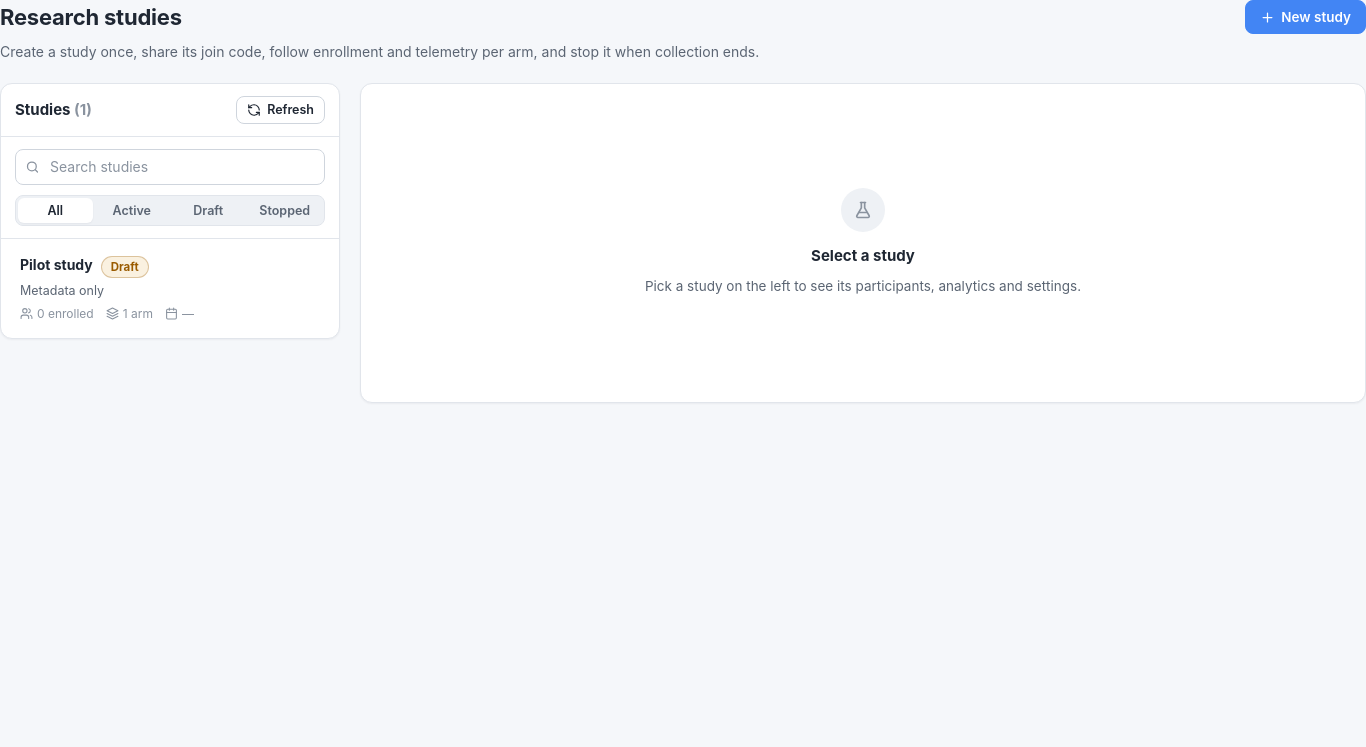
Test: a superseded analytics range never replaces the newer one
The width and height of the screenshot is (1366, 747).
Step 1. Click the text "Pilot study" → (56, 265), box [20,256,93,275]
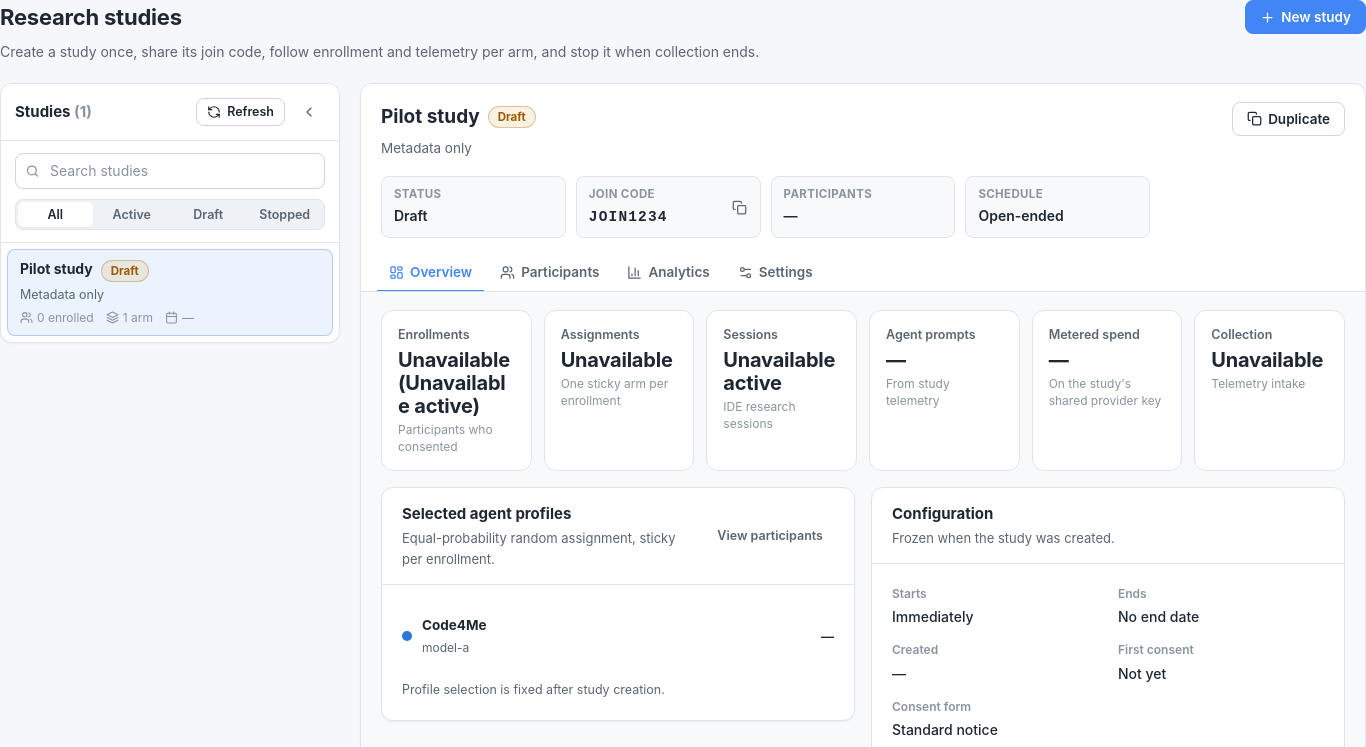
Step 2. Click the tab "Analytics" → (669, 273), box [616,254,722,292]
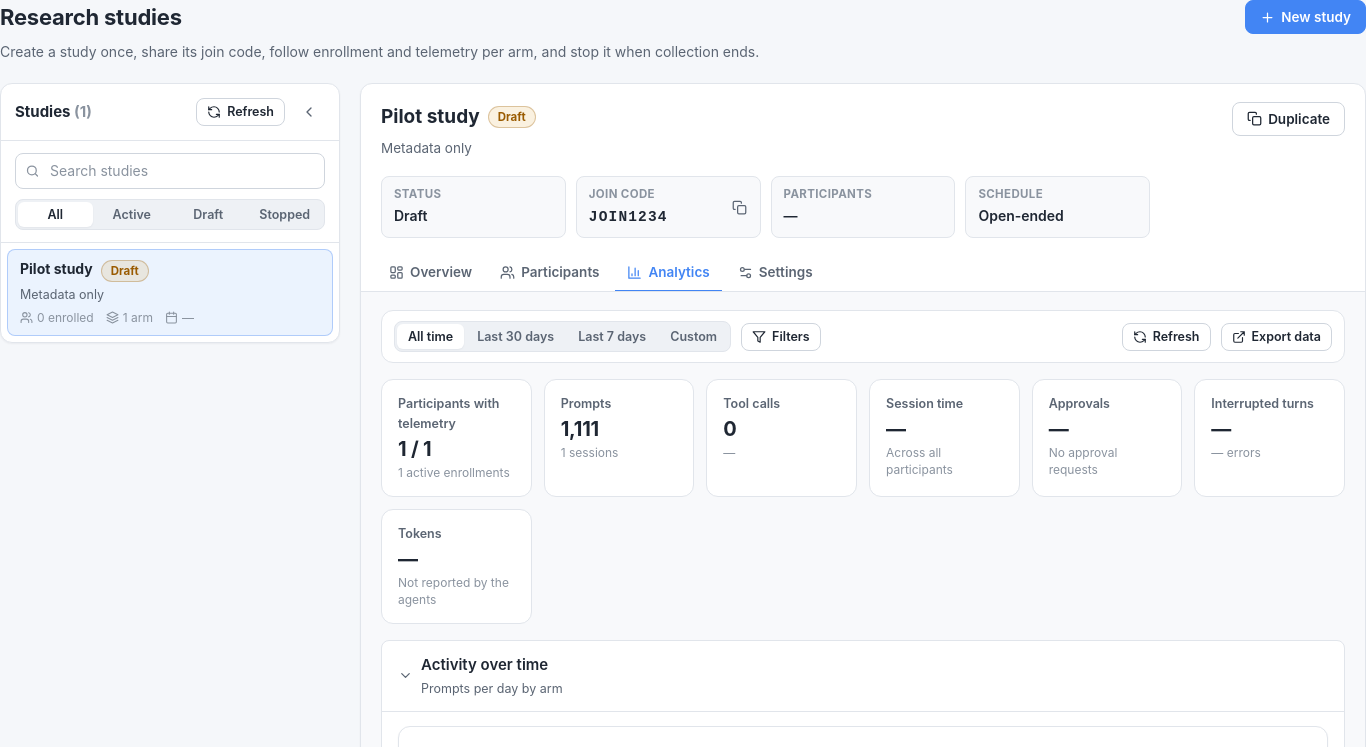
Expected: the text "1,111" is shown, [561,417,599,441]
Step 3. Click the button "Last 7 days" → (612, 337), box [567,324,657,349]
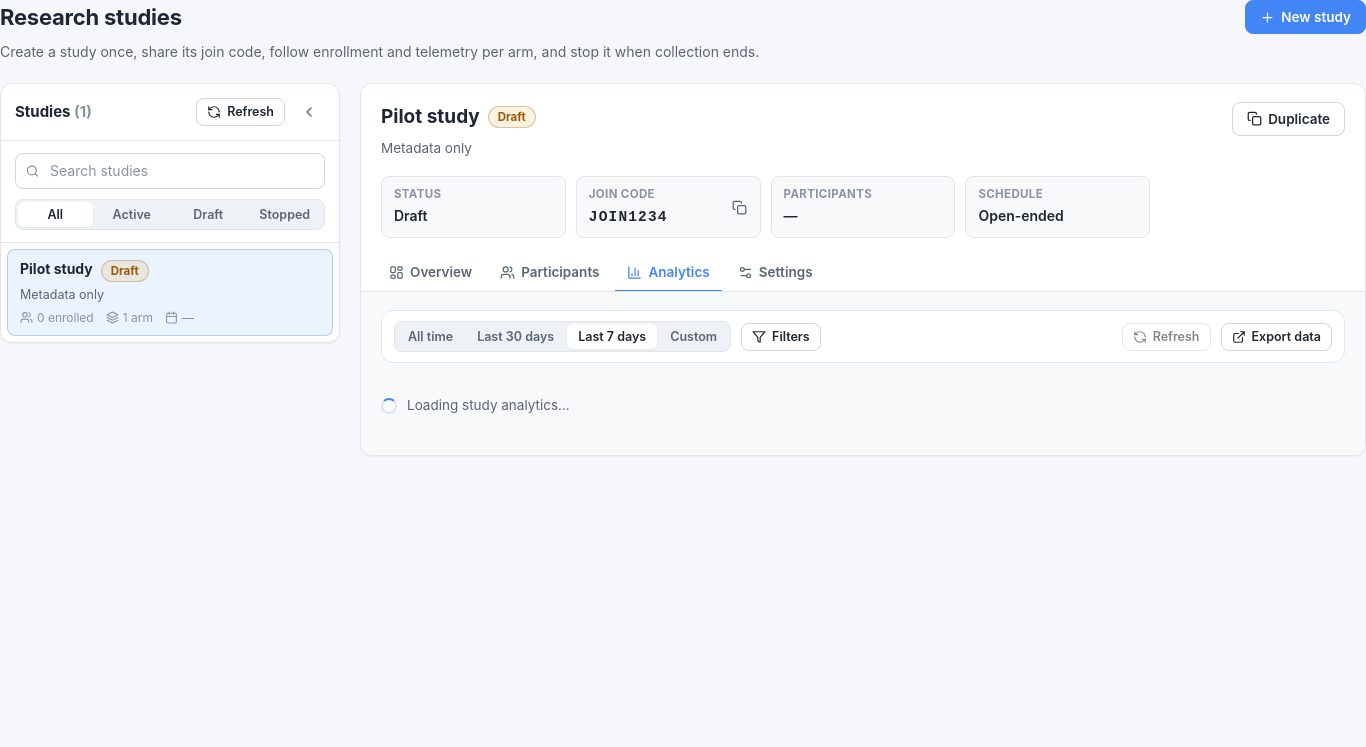
Step 4. Click the button "Last 30 days" → (516, 337), box [466,324,565,349]
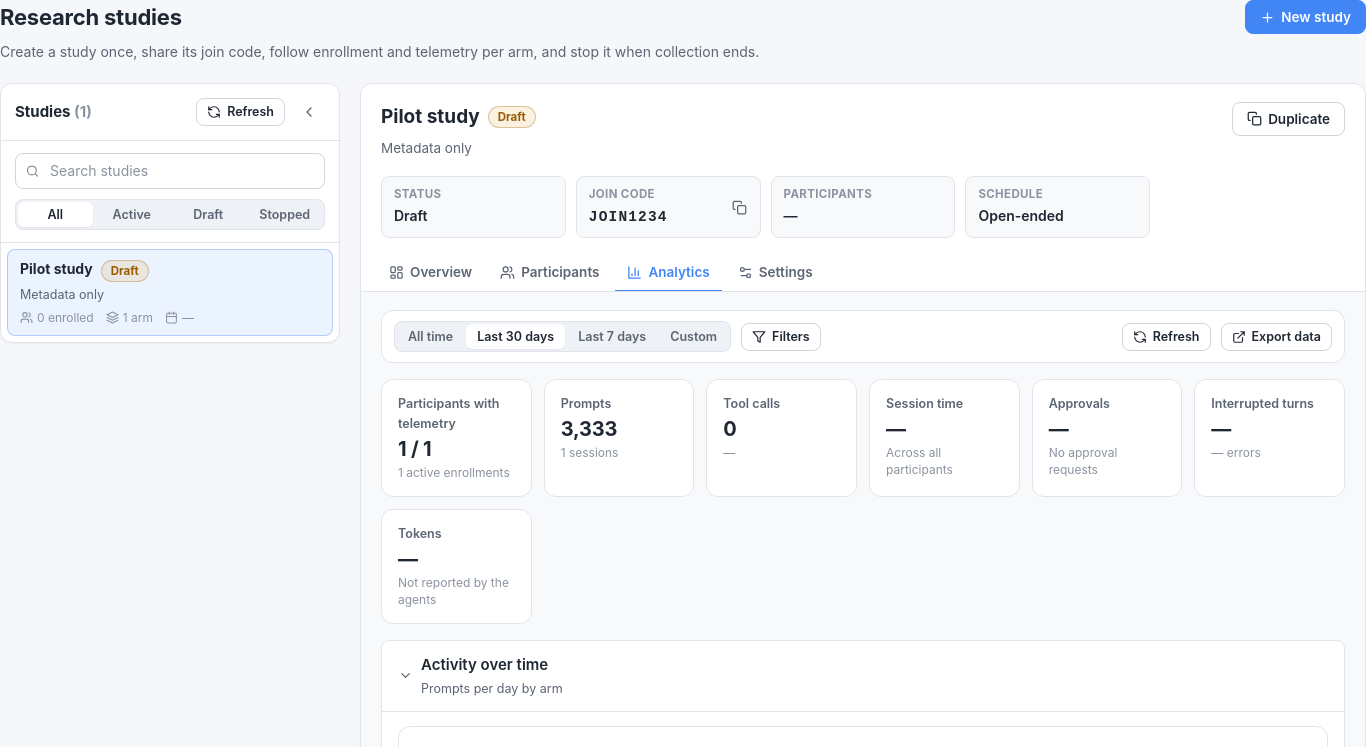
Expected: the text "3,333" is shown, [561,417,617,441]
